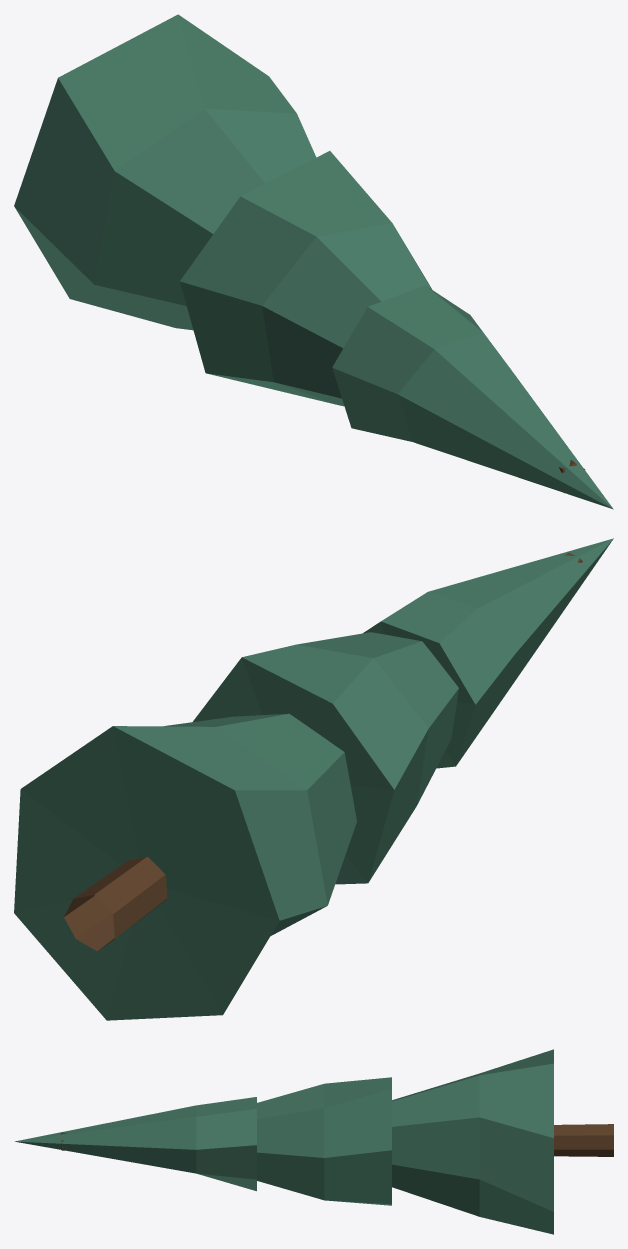
File: growth_0.glb
The picture shows the model from 3 angles, top to bottom: view 1: azimuth 30°, elevation 25°; view 2: azimuth 150°, elevation 25°; view 3: azimuth 270°, elevation 25°; orthographic projection. The views are drawn at different scales.
Parts seen in each view (by area): view 1: tree_09_growth_0; view 2: tree_09_growth_0; view 3: tree_09_growth_0.
Boxes of the visible parts, x1,y1,x2,y2 form: tree_09_growth_0: (14, 14, 613, 509); tree_09_growth_0: (14, 538, 613, 1020); tree_09_growth_0: (14, 1049, 613, 1234).
Size of the model in its own units: 4.44 by 4.73 by 15.17.
